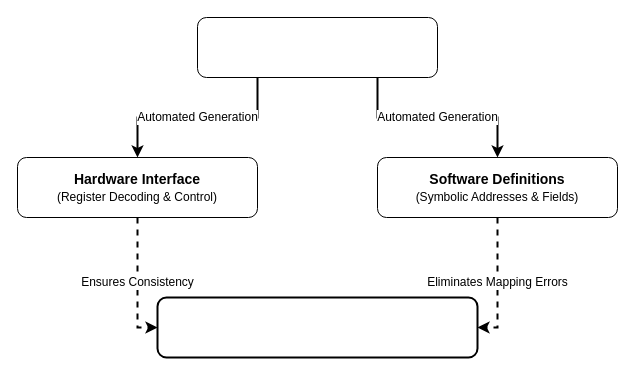
The diagram is 635 pixels wide and 376 high, and some of its shapes have lost their labels. The shapes that lost their labels are listed below. From the top down, each one's centre as x and y in pixels, then its label:
At (x=317, y=47): "High-Level Register Specification (Single Source of Truth)".
At (x=317, y=327): "Synchronized HW/SW System Integration".
